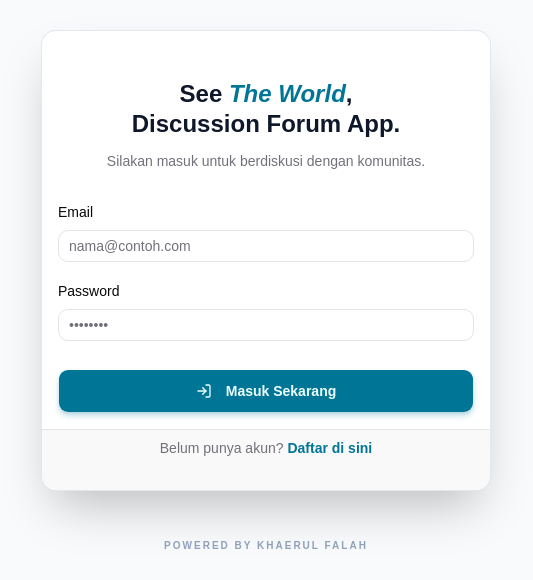
Scenario: Login spec › should show validation error when password is empty
Type "test@gmail.com" into the field with placeholder "nama@contoh.com".
click(266, 246); type("test@gmail.com")  # box [58, 230, 474, 262]
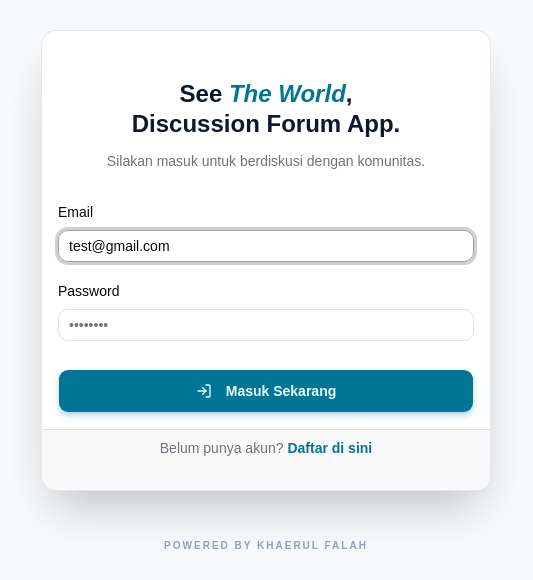
Click the button "Masuk Sekarang".
click(266, 391)  # box [58, 369, 474, 413]
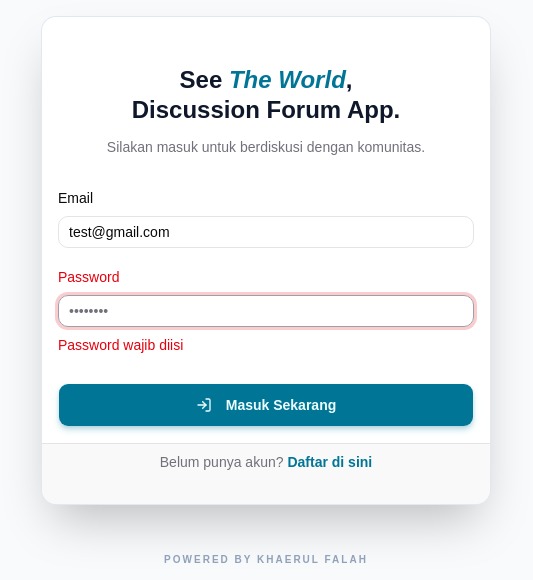
Expected: the text "Password wajib diisi" is shown, [58, 337, 183, 353]
